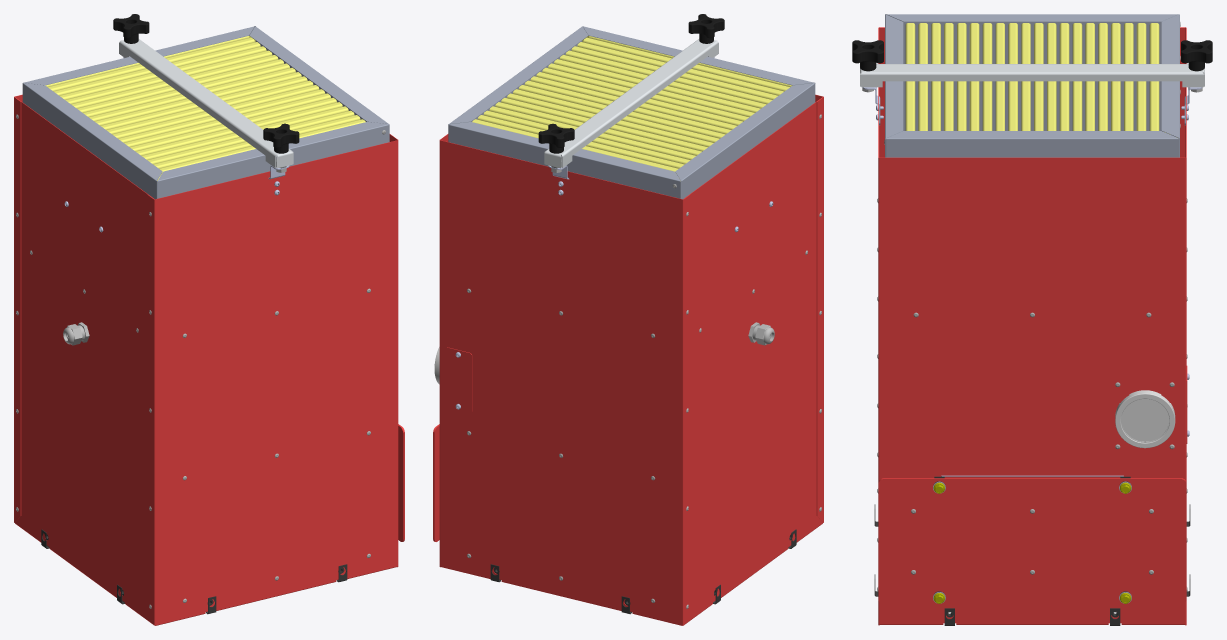
The picture shows the model from 3 angles, left to right: view 1: azimuth 30°, elevation 25°; view 2: azimuth 150°, elevation 25°; view 3: azimuth 270°, elevation 25°; orthographic projection. The views are drawn at different scales.
Parts seen in each view (by area): view 1: n195, n197, n104, n93, n234, n92, n224, n23, n24; view 2: n195, n197, n104, n92, n93, n234, n209, n224, n23, n24; view 3: n195, n224, n104, n93, n92, n234, n11, n197, n23, n24.
Boxes of the visible parts, bbox=[...] form: n195: bbox=[14, 94, 398, 625]; n197: bbox=[15, 97, 154, 625]; n104: bbox=[45, 36, 365, 180]; n93: bbox=[23, 83, 389, 199]; n234: bbox=[119, 39, 293, 168]; n92: bbox=[22, 26, 389, 124]; n224: bbox=[398, 424, 404, 541]; n23: bbox=[263, 123, 299, 153]; n24: bbox=[113, 14, 149, 43]; n195: bbox=[439, 94, 823, 625]; n197: bbox=[683, 97, 822, 625]; n104: bbox=[472, 36, 792, 171]; n92: bbox=[448, 26, 680, 198]; n93: bbox=[583, 26, 815, 199]; n234: bbox=[544, 39, 718, 168]; n209: bbox=[445, 347, 472, 412]; n224: bbox=[433, 424, 439, 541]; n23: bbox=[688, 14, 724, 43]; n24: bbox=[538, 123, 574, 153]; n195: bbox=[878, 27, 1186, 625]; n224: bbox=[878, 478, 1186, 604]; n104: bbox=[905, 23, 1176, 137]; n93: bbox=[885, 14, 1178, 157]; n92: bbox=[885, 14, 1179, 157]; n234: bbox=[860, 64, 1204, 87]; n11: bbox=[1115, 390, 1175, 448]; n197: bbox=[880, 27, 1184, 157]; n23: bbox=[852, 40, 883, 71]; n24: bbox=[1181, 40, 1212, 71].
Size of the model in its own units: 0.4275 by 0.6962 by 0.4424.
